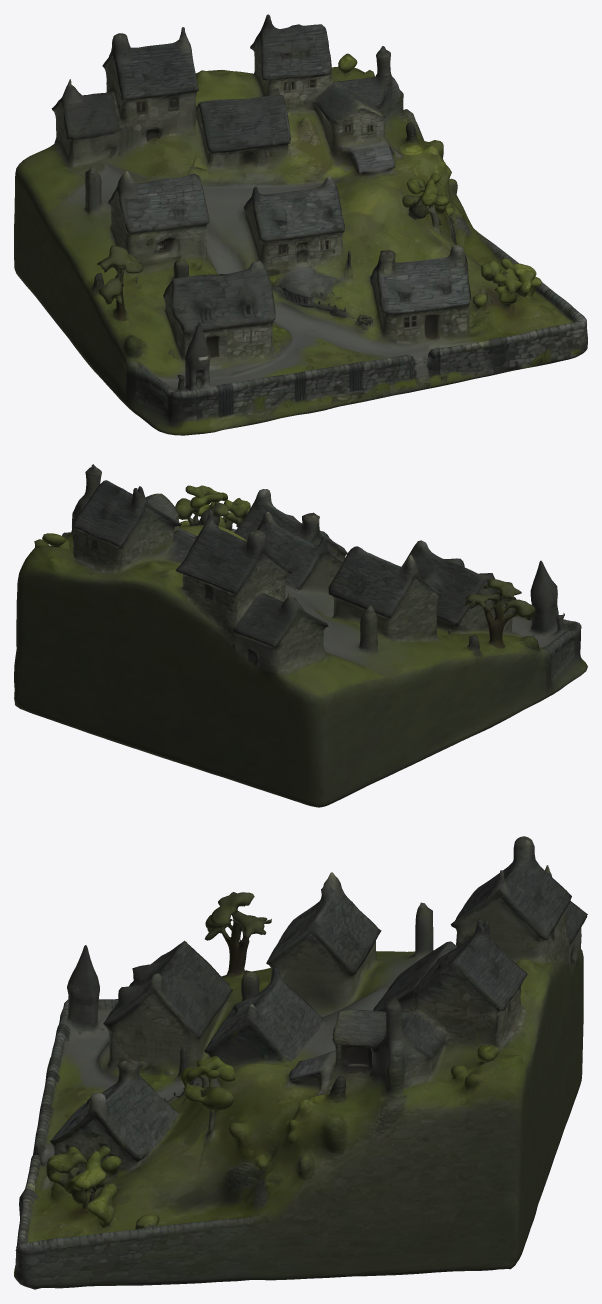
The model's file is village_tripo.glb.
3 views of the same model, one above another, from view 1: azimuth 30°, elevation 25°; view 2: azimuth 150°, elevation 25°; view 3: azimuth 270°, elevation 25° (orthographic). The views are drawn at different scales.
Visible parts, largest first — view 1: medieval village 3d model; view 2: medieval village 3d model; view 3: medieval village 3d model.
Part boxes in pixels (<box>): medieval village 3d model: <box>14,14,587,435</box>; medieval village 3d model: <box>14,464,587,807</box>; medieval village 3d model: <box>14,836,587,1289</box>.
Size of the model in its own units: 0.9685 by 0.5285 by 0.9451.
1 material, 1 textured.
